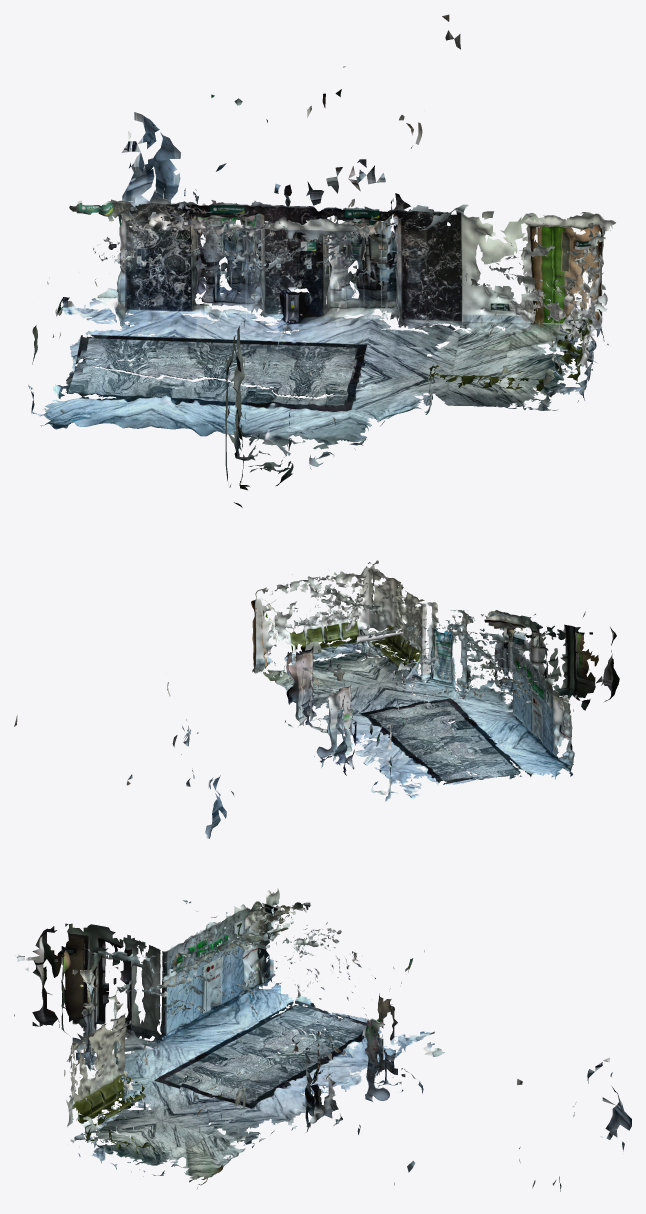
Rendered from 147393-lt7tower-tex.glb.
3 renders of one model, top to bottom at view 1: azimuth 30°, elevation 25°; view 2: azimuth 150°, elevation 25°; view 3: azimuth 270°, elevation 25°, orthographic. The views are drawn at different scales.
Visible parts, largest first — view 1: Node; view 2: Node; view 3: Node.
Part boxes in pixels (left/top/right/bottom): Node: left=28, top=14, right=615, bottom=507; Node: left=14, top=560, right=619, bottom=838; Node: left=14, top=888, right=631, bottom=1191.
Size of the model in its own units: 15.15 by 4.63 by 15.66.
Materials: 28 (28 with a texture image).
